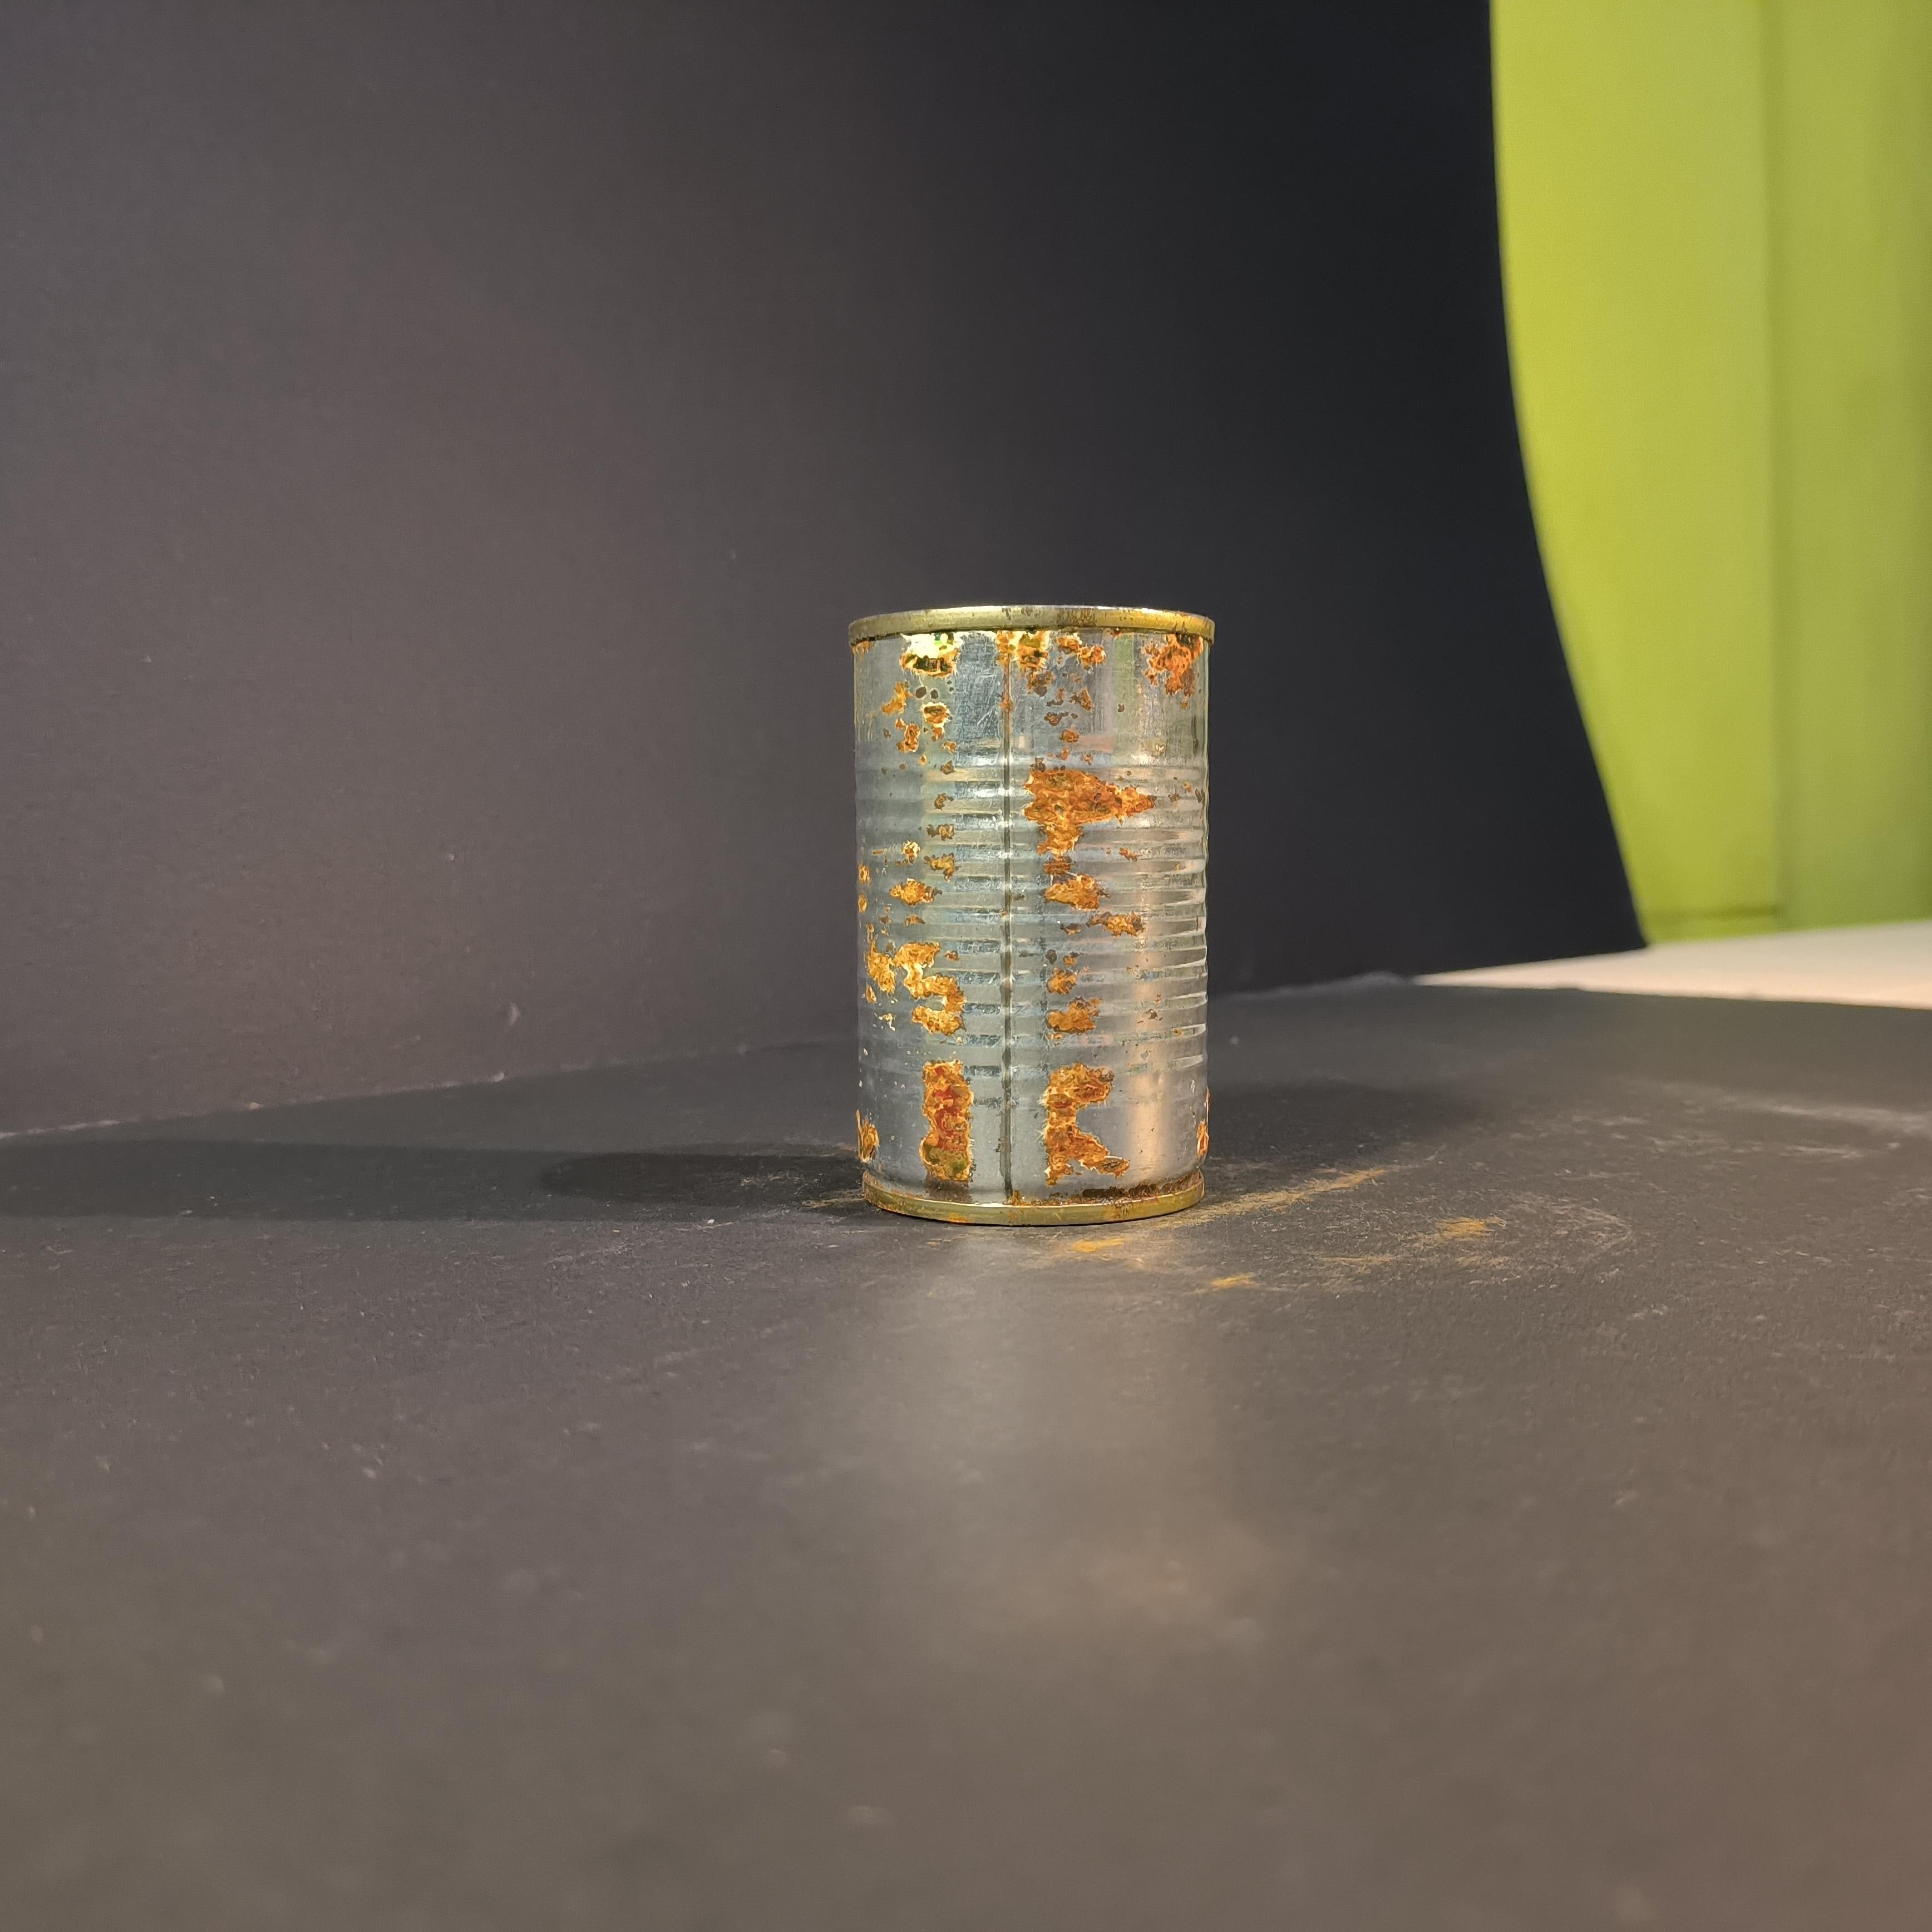Rusted: (823, 582, 1249, 1253)
